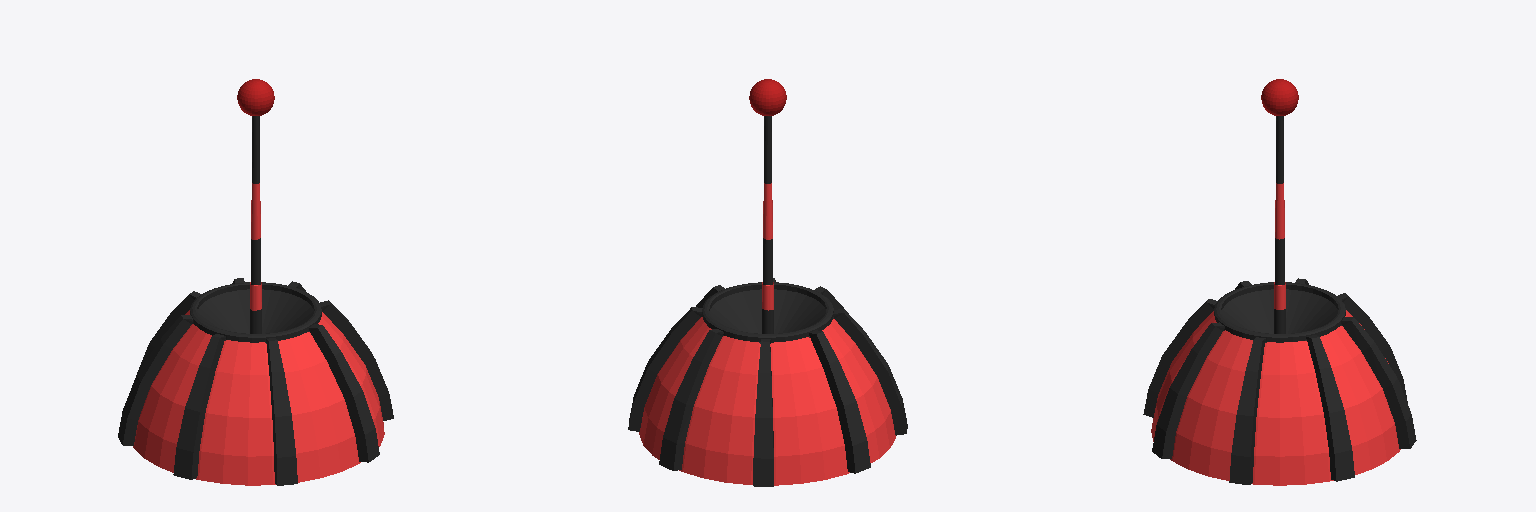
The picture shows the model from 3 angles: view 1: azimuth 30°, elevation 25°; view 2: azimuth 150°, elevation 25°; view 3: azimuth 270°, elevation 25°; orthographic projection.
Size of the model in its own units: 2.35 by 3.32 by 2.35.
1 materials, 1 textured.